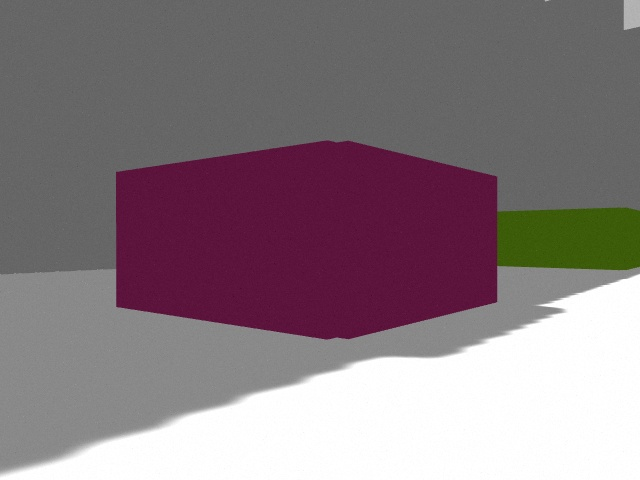green_drop_zone: (498, 207, 640, 270)
red_drop_zone: (116, 140, 497, 339)
